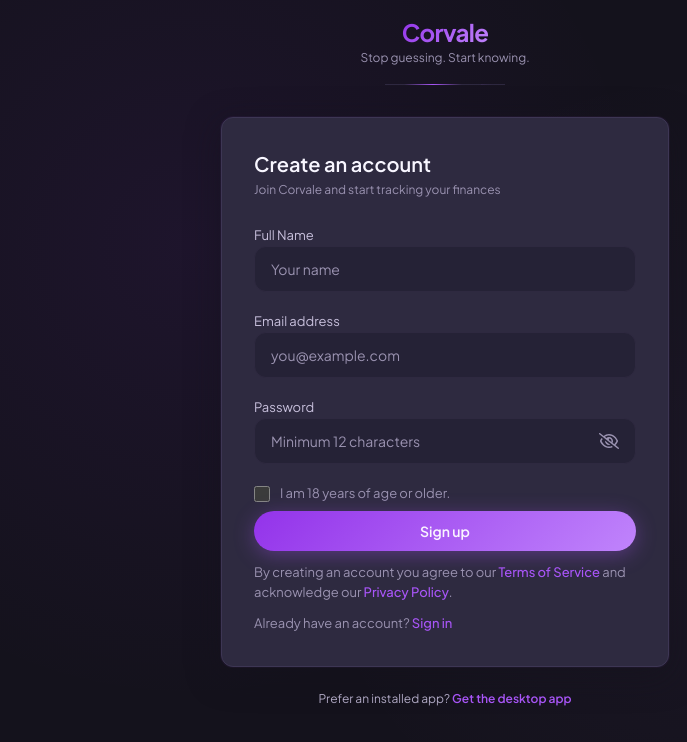
Test: Signup - API rejection › shows the server error message (e.g. duplicate email) and does not navigate
Type "Alex Kim" into the field with placeholder "Your name" at (445, 268), box [271,258,619,278]
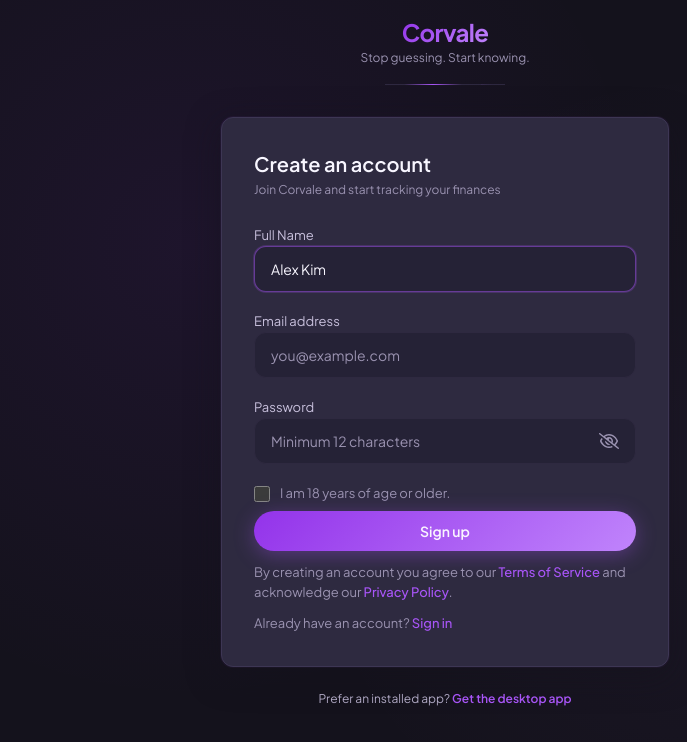
Type "alex@example.com" into the field with placeholder "you@example.com" at (445, 354), box [271,344,619,364]
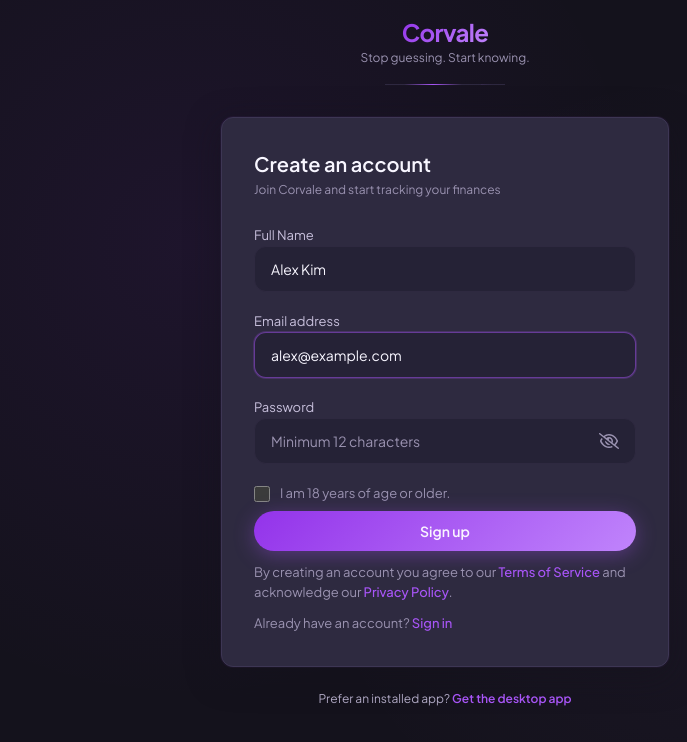
Type "correcthorsebattery" into the password field with placeholder "Minimum 12 characters" at (429, 440), box [271,430,587,450]
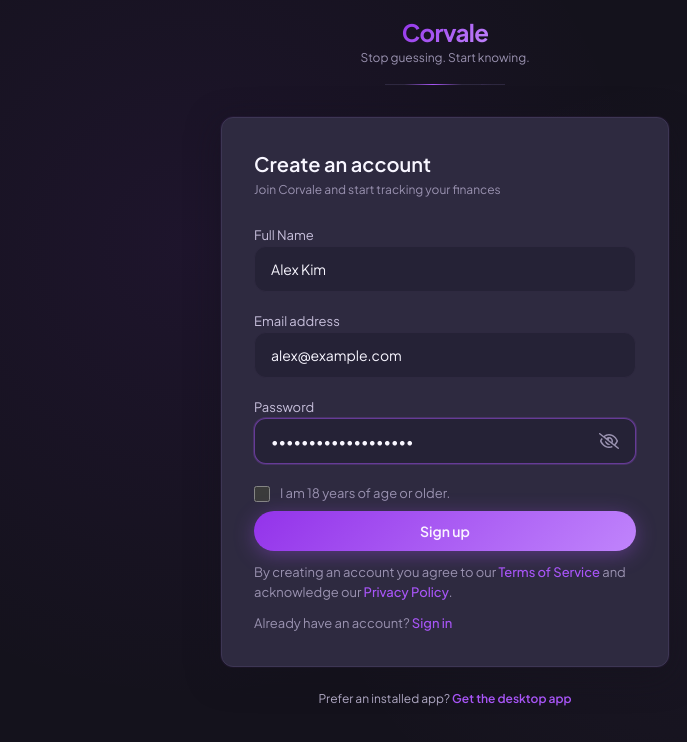
Click the checkbox labelled "I am 18 years of age or older." at (262, 494), box [254,486,270,502]
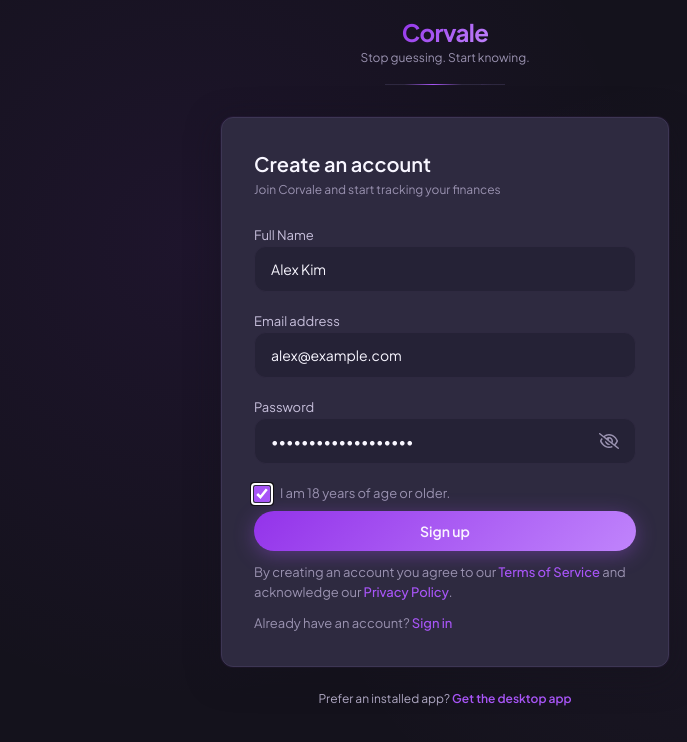
Click the button "Sign up" at (445, 531), box [254,511,636,551]
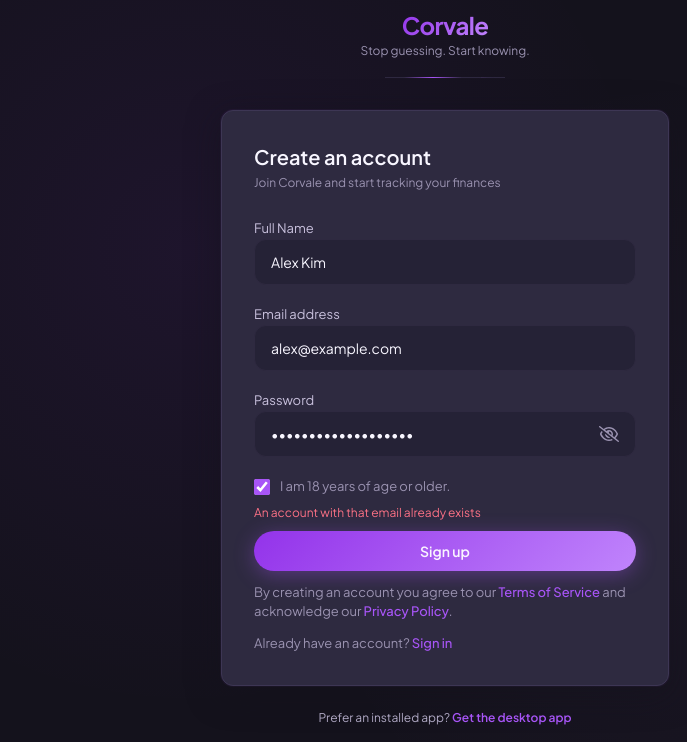
Now the text "An account with that email already exists" is shown, box [254,504,481,520]
